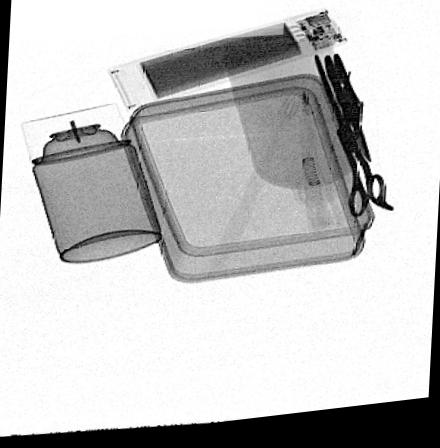Knife: (323, 60, 375, 190)
Powerbank: (106, 14, 347, 113)
Scissors: (313, 63, 398, 227)
Sprayer: (21, 103, 164, 265)
